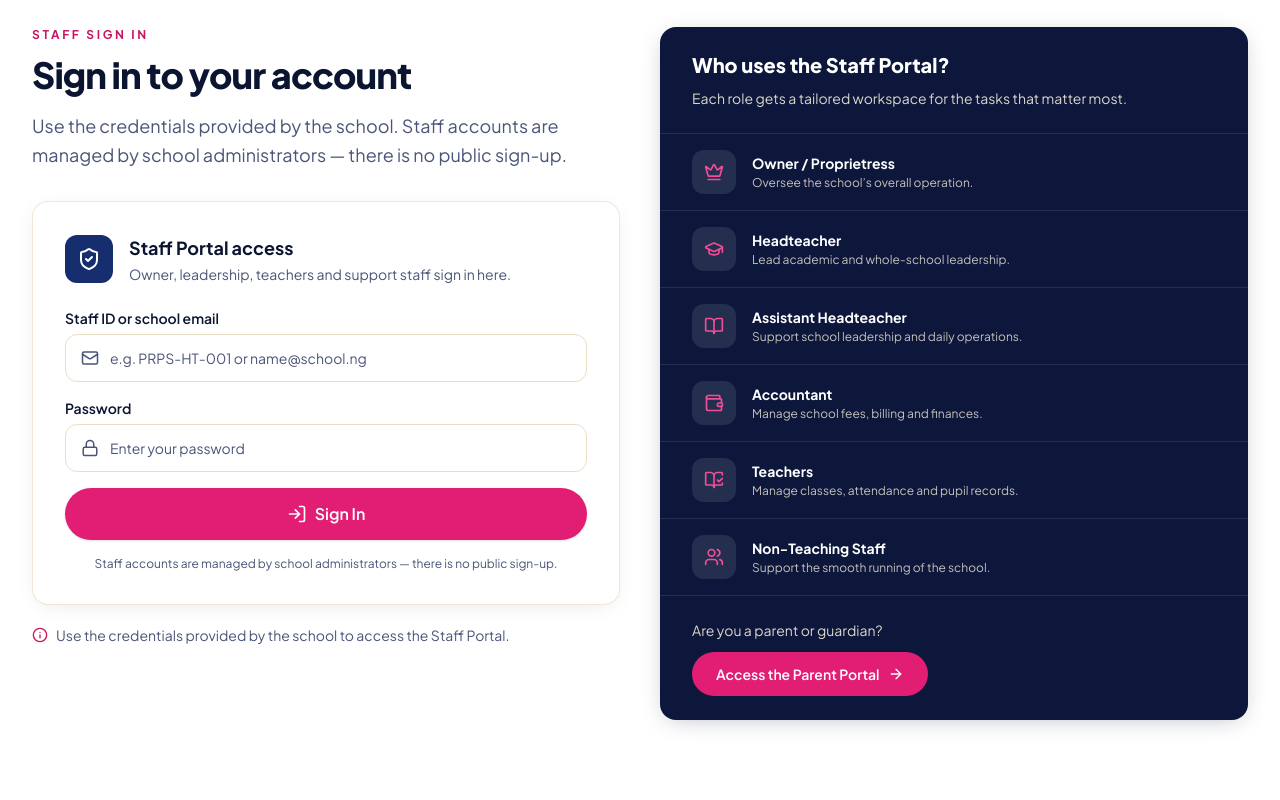
StaffLoginPage › shows a validation message when submitting without credentials
(page scrolled)
Click the button "Sign In" at [326, 514], box [65, 488, 587, 540]
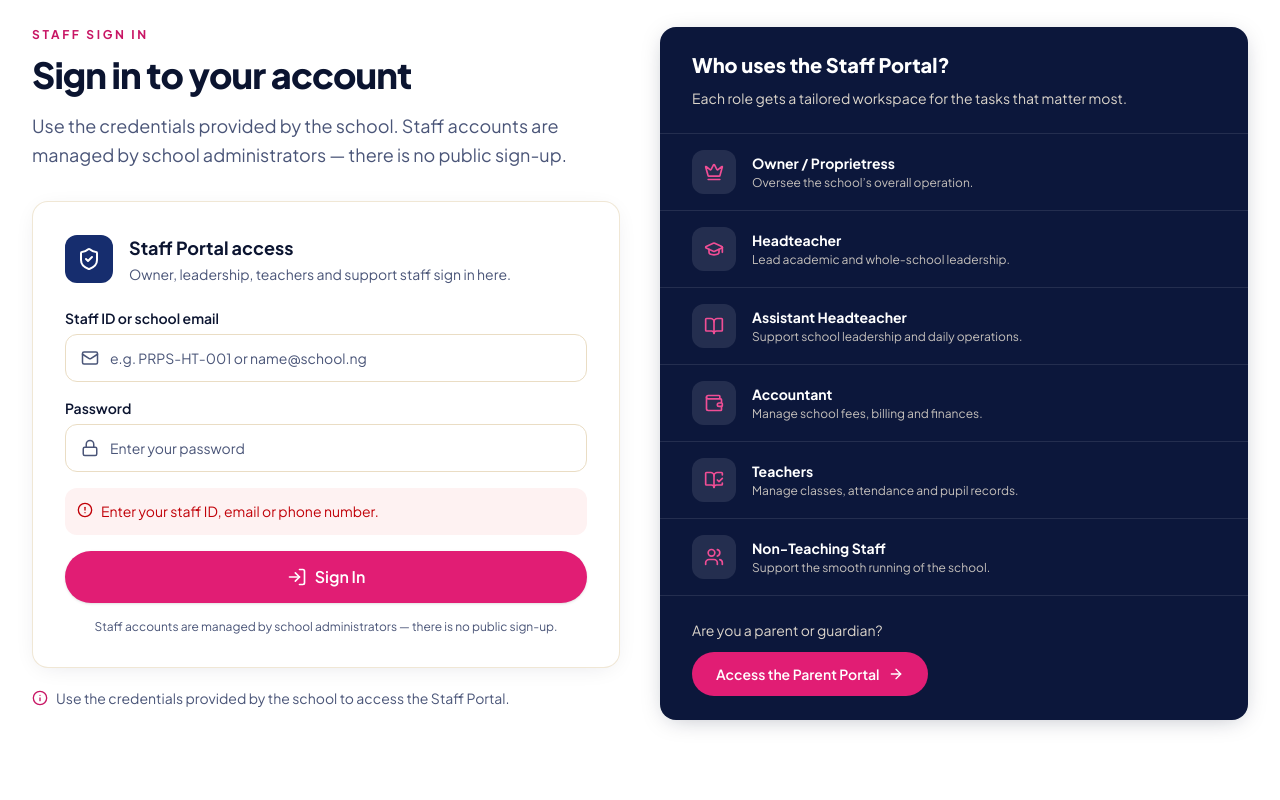
Result: the message shows "staff ID, email or phone" at [101, 502, 379, 520]
